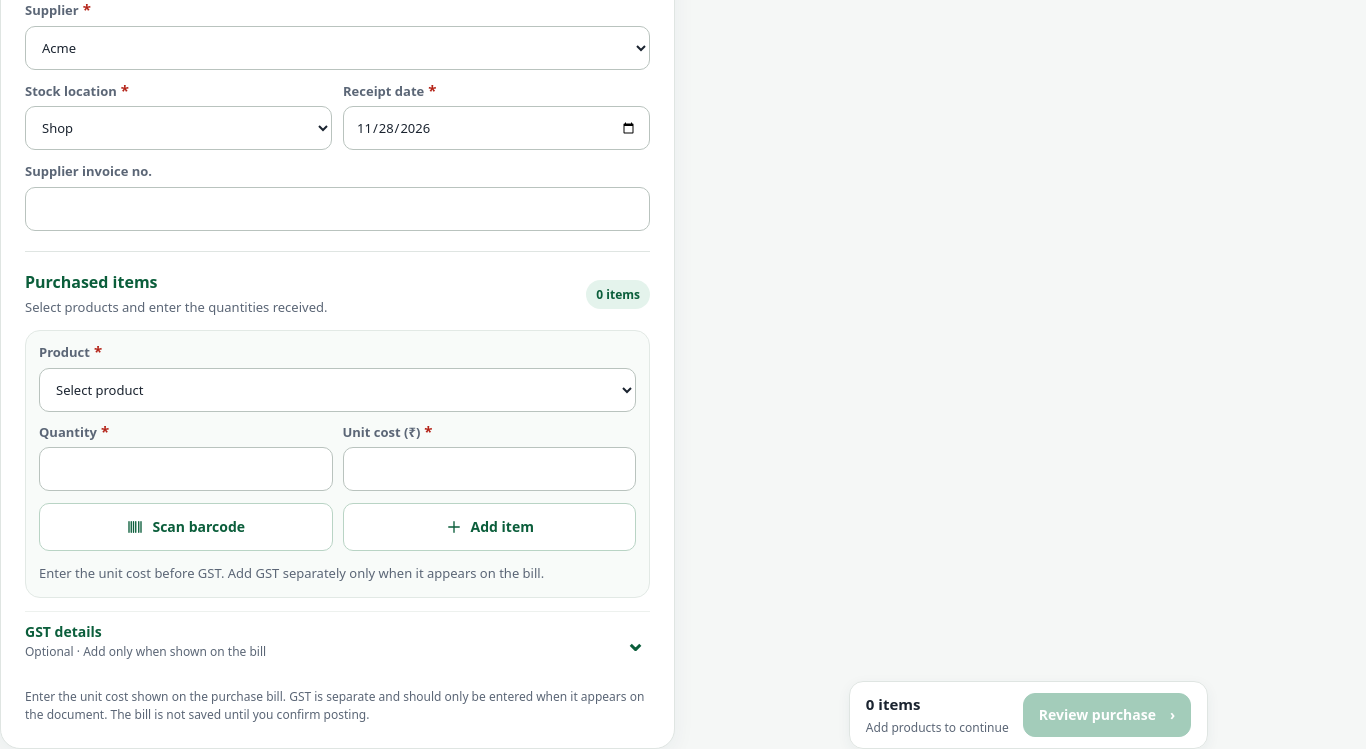
Procurement manual GST › rejects GST that is more than the line value
The width and height of the screenshot is (1366, 749).
(page scrolled)
Select "Battery" in the dropdown labelled "Product *" at (338, 390), box [39, 368, 636, 412]
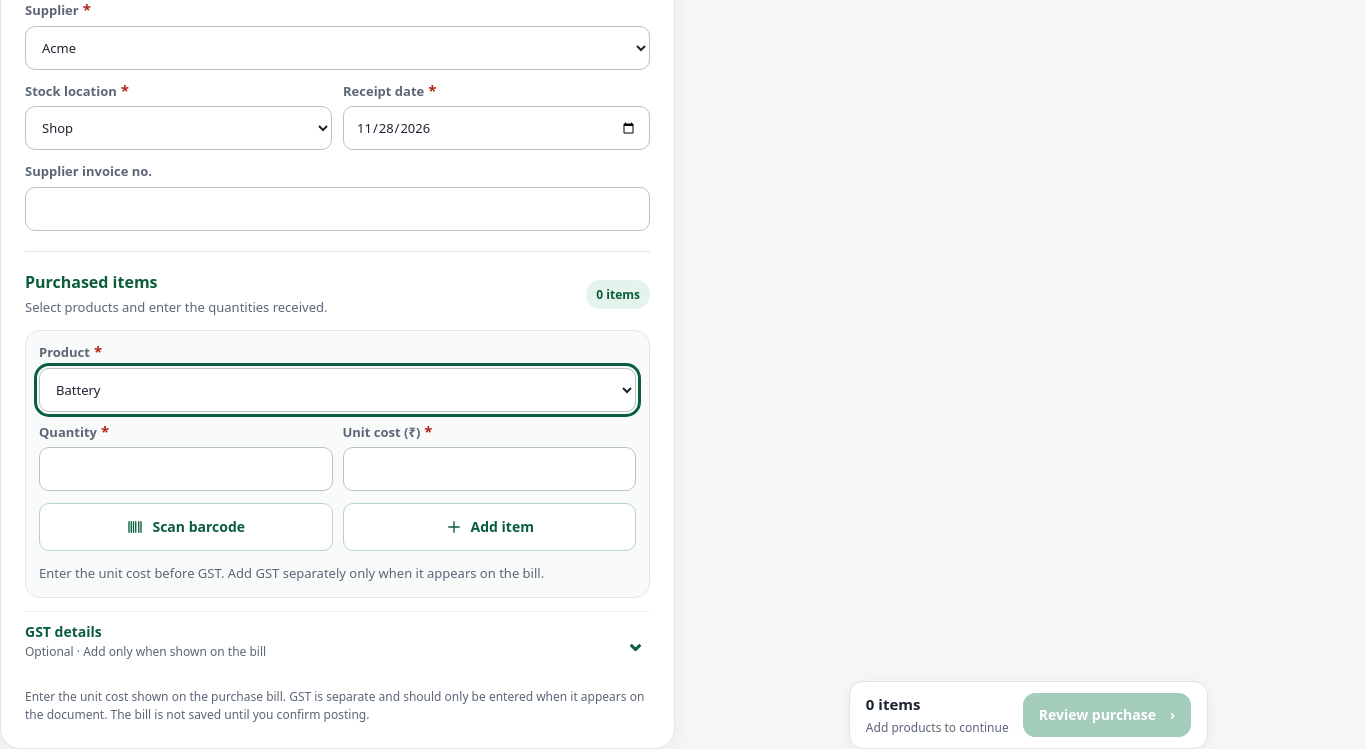
Type "10" into the field labelled "Quantity *" at (186, 469), box [39, 447, 332, 491]
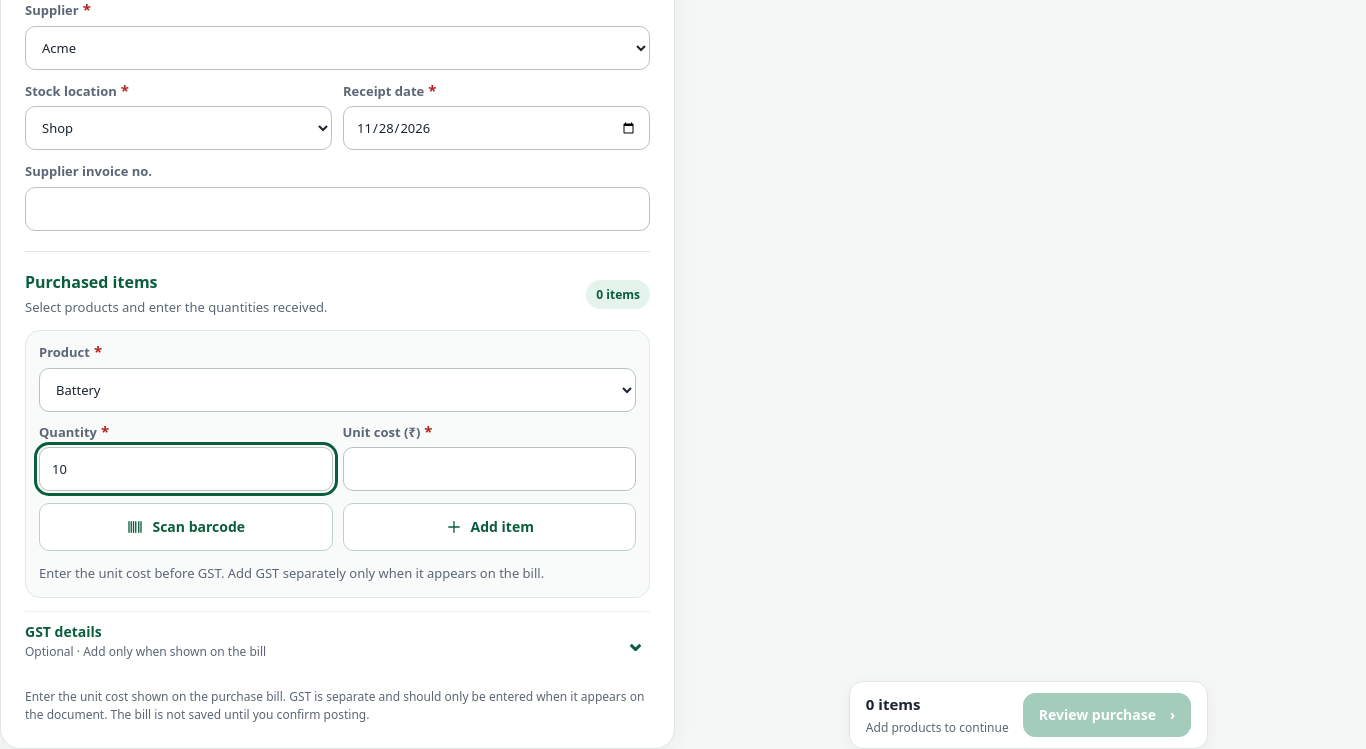
Type "100" into the field labelled "Unit cost (₹) *" at (489, 469), box [342, 447, 636, 491]
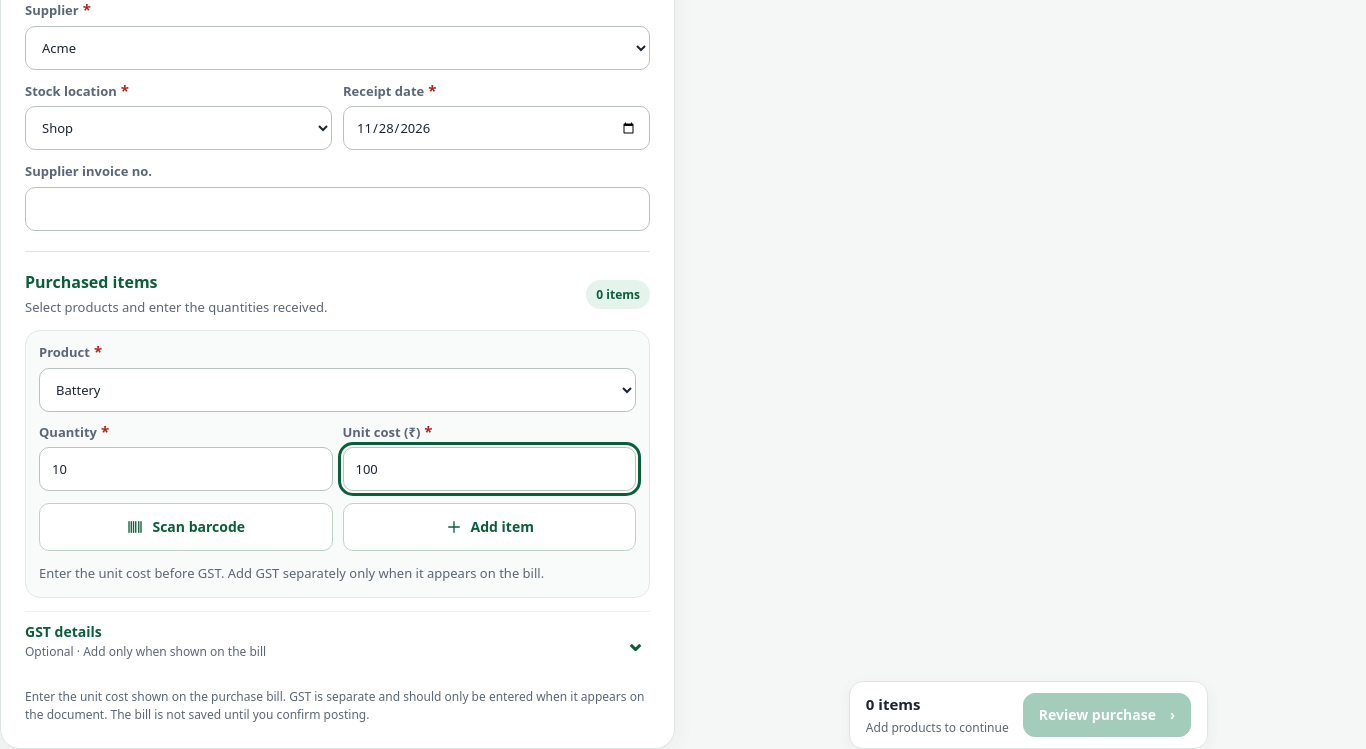
Click the button "GST details Optional · Add only when shown on the bill ⌄" at (63, 631), box [25, 616, 650, 668]
(page scrolled)
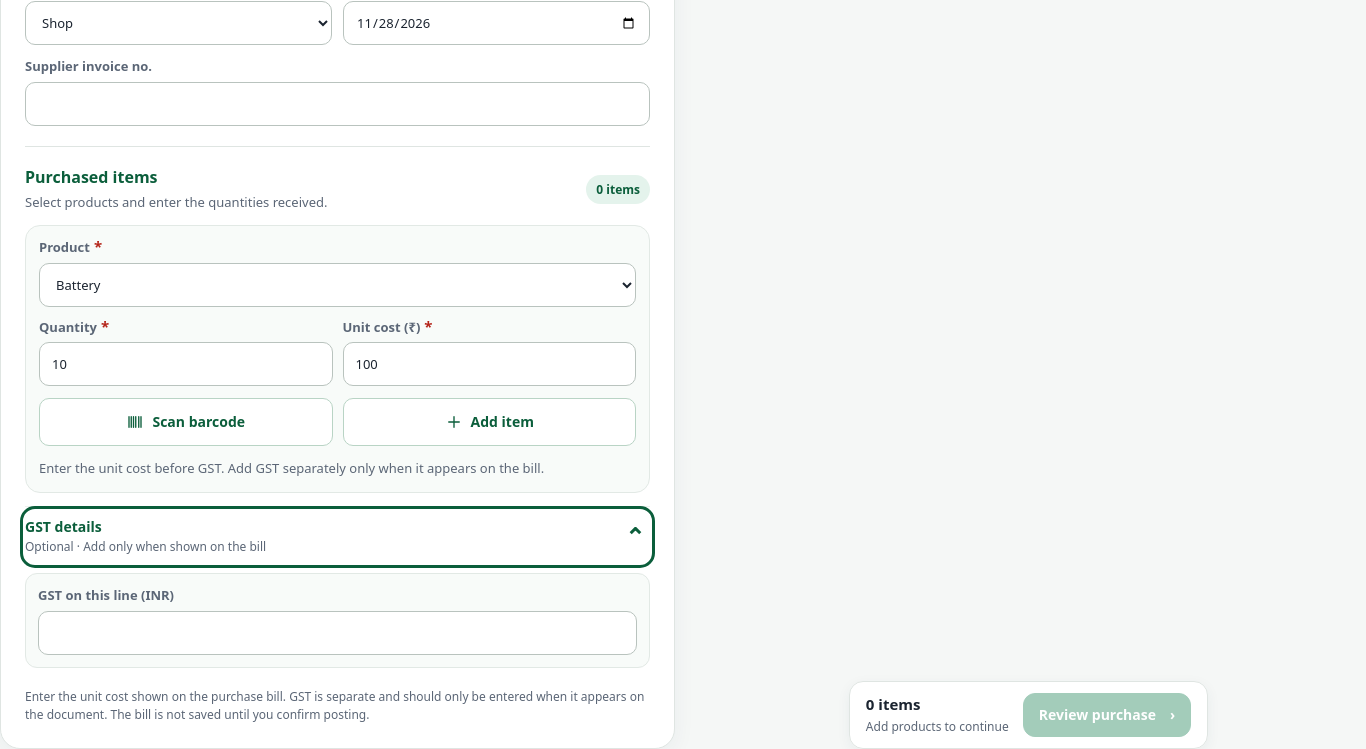
Type "5000" into the field labelled "GST on this line (INR)" at (338, 633), box [38, 611, 637, 655]
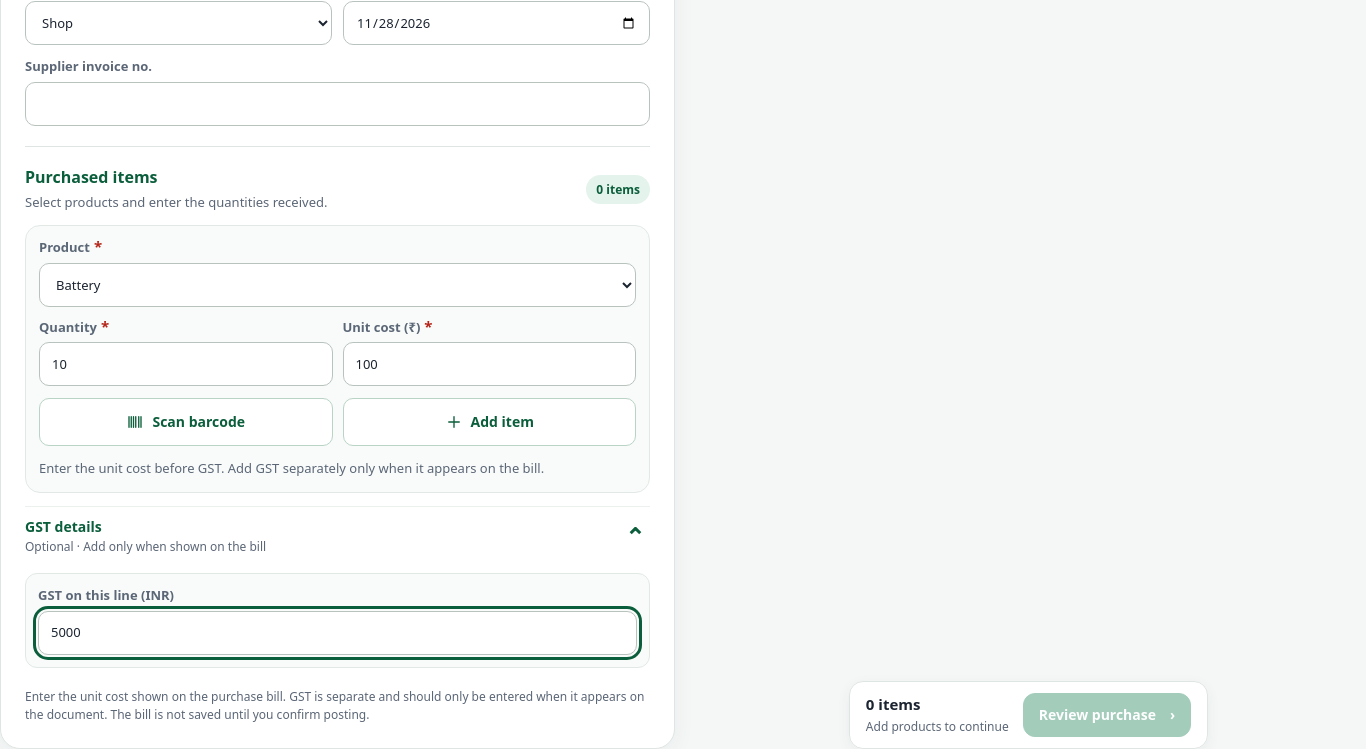
Click the button "Add item" at (489, 422), box [342, 398, 636, 446]
(page scrolled)
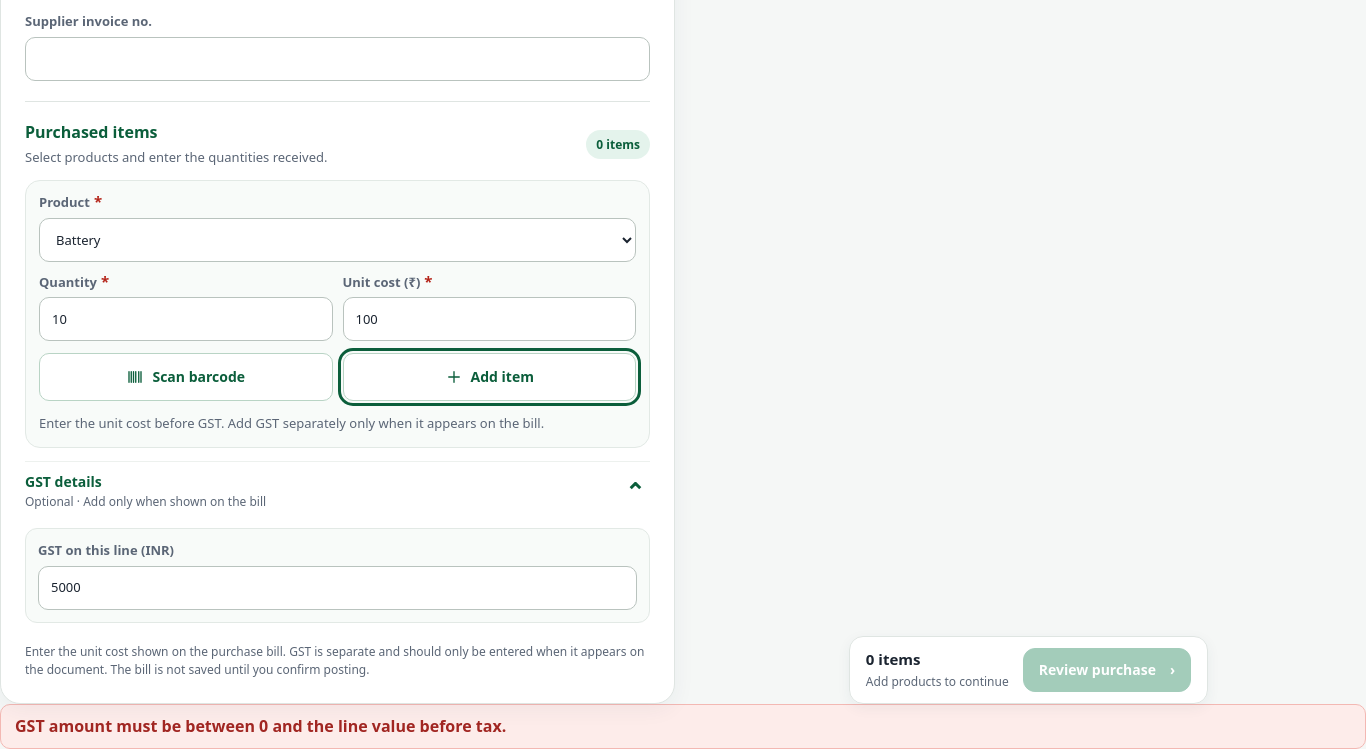
Expected: the text "GST amount must be between 0 and the line value before tax." is shown, [0, 704, 1365, 748]
